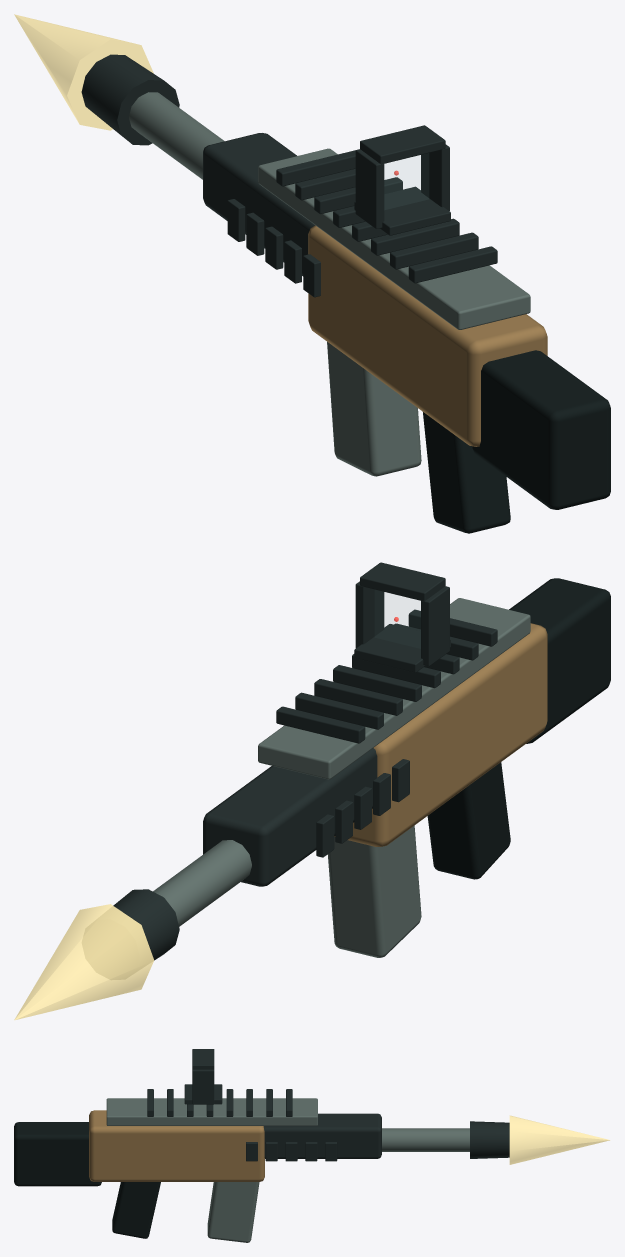
Rendered from equipment-1.glb.
The picture shows the model from 3 angles, top to bottom: view 1: azimuth 30°, elevation 25°; view 2: azimuth 150°, elevation 25°; view 3: azimuth 270°, elevation 25°; orthographic projection. The views are drawn at different scales.
Bounding box in the file's own units: 0.132 × 0.4526 × 1.36.
